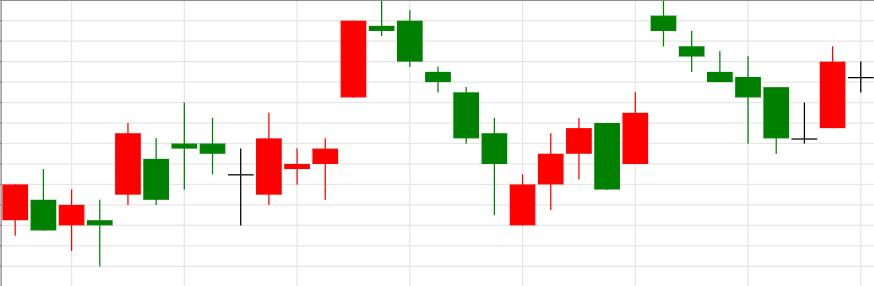evening_star_fall: (229, 1, 422, 225)
